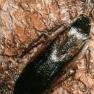cockroach: (14, 14, 91, 94)
